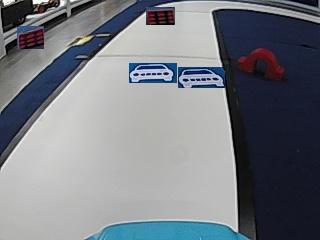bridge: (238, 49, 284, 78)
